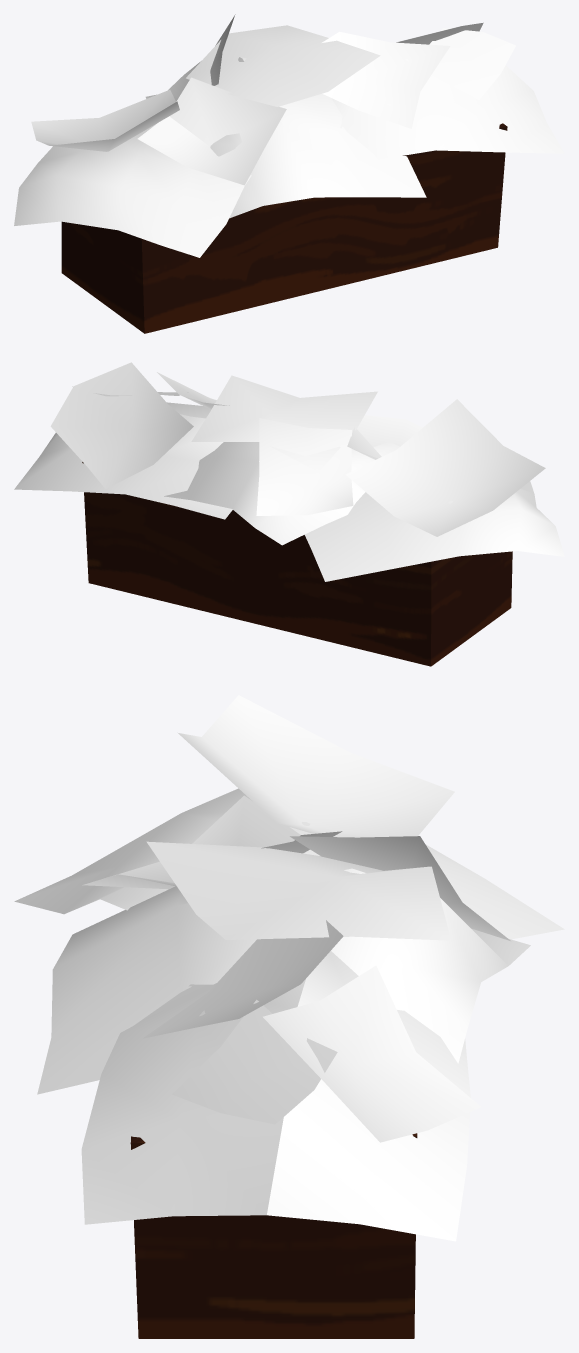
Rendered from SM_PROP_PLANT_pot_v1_03.fbx.
The picture shows the model from 3 angles, top to bottom: view 1: azimuth 30°, elevation 25°; view 2: azimuth 150°, elevation 25°; view 3: azimuth 270°, elevation 25°; orthographic projection. The views are drawn at different scales.
Visible parts, largest first — view 1: SM_PROP_PLANT_pot_v1_03; view 2: SM_PROP_PLANT_pot_v1_03; view 3: SM_PROP_PLANT_pot_v1_03.
Part boxes in pixels (left/top/right/bottom): SM_PROP_PLANT_pot_v1_03: left=14, top=14, right=564, bottom=333; SM_PROP_PLANT_pot_v1_03: left=14, top=362, right=564, bottom=666; SM_PROP_PLANT_pot_v1_03: left=14, top=695, right=564, bottom=1338.
Bounding box in the file's own units: 109 × 42.93 × 59.85.
